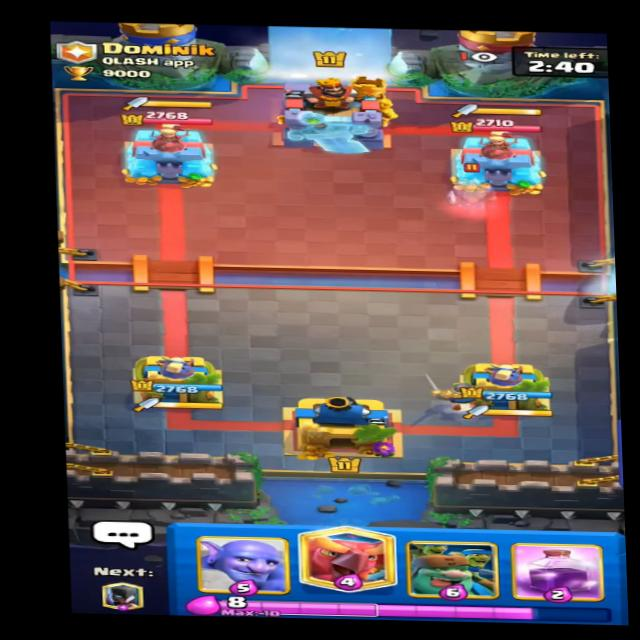Royalghost: (445, 163, 500, 210)
